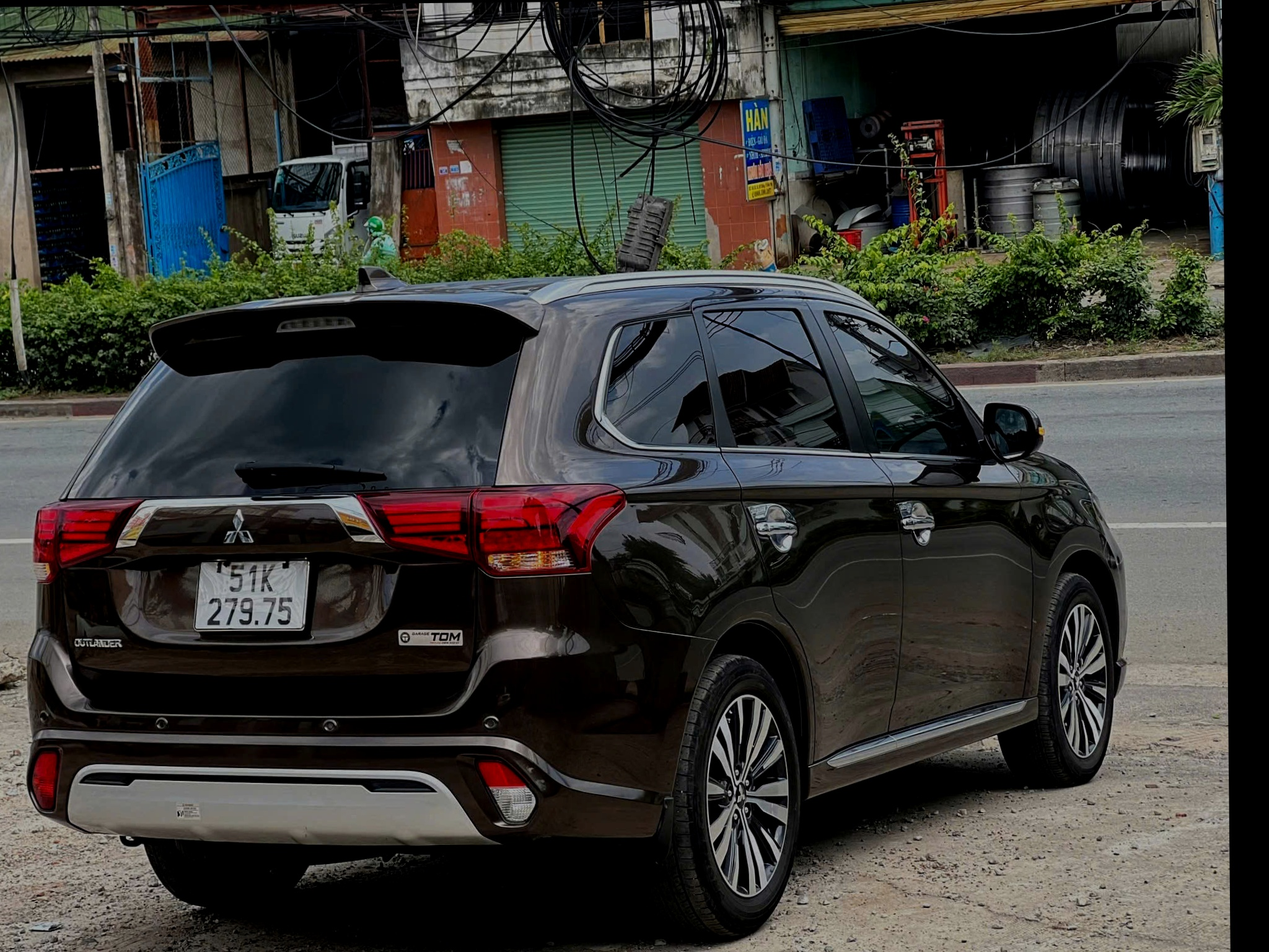Bien-so: (197, 554, 325, 634)
